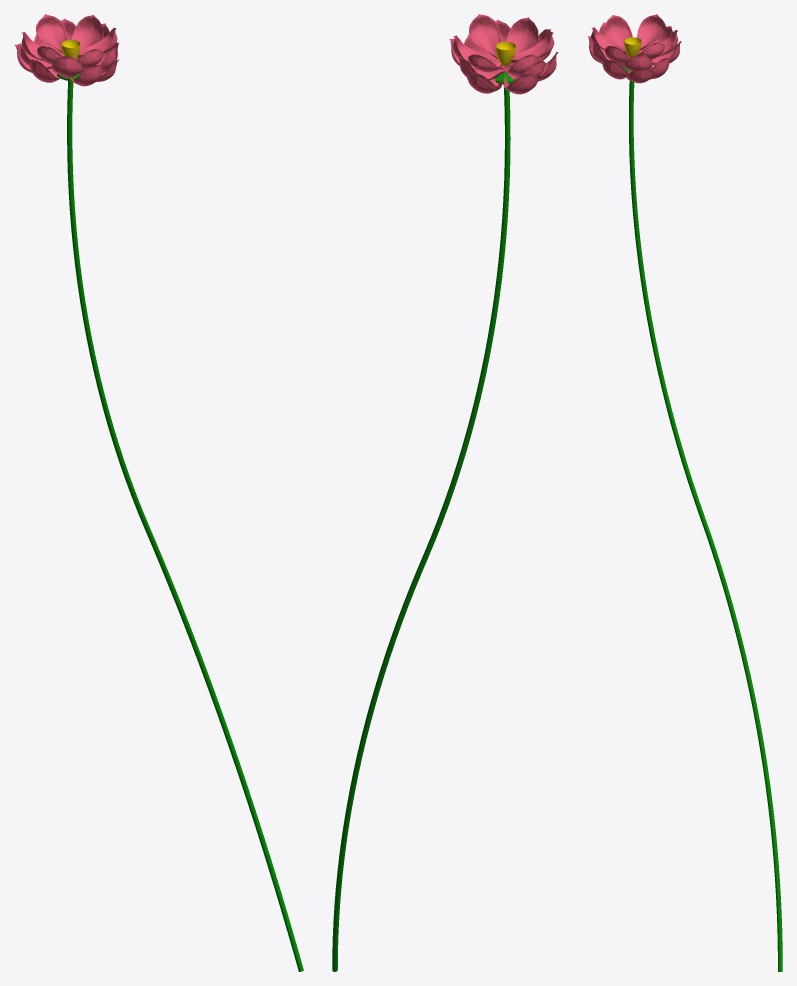
The model's file is Lotus085.fbx.
The picture shows the model from 3 angles, left to right: view 1: azimuth 30°, elevation 25°; view 2: azimuth 150°, elevation 25°; view 3: azimuth 330°, elevation 25°; orthographic projection. The views are drawn at different scales.
Parts seen in each view (by area): view 1: pCylinder5, nurbsToPoly23, nurbsToPoly19; view 2: pCylinder5, nurbsToPoly22, nurbsToPoly18, nurbsToPoly10; view 3: pCylinder5, nurbsToPoly23, nurbsToPoly20.
Boxes of the visible parts, x1,y1,x2,y2 form: pCylinder5: [67, 80, 303, 971]; nurbsToPoly23: [36, 14, 67, 53]; nurbsToPoly19: [71, 14, 102, 50]; pCylinder5: [332, 84, 510, 971]; nurbsToPoly22: [469, 14, 501, 59]; nurbsToPoly18: [506, 17, 538, 55]; nurbsToPoly10: [467, 72, 503, 93]; pCylinder5: [629, 80, 782, 971]; nurbsToPoly23: [637, 14, 665, 50]; nurbsToPoly20: [604, 15, 632, 47].
Size of the model in its own units: 52.45 by 200 by 24.27.
